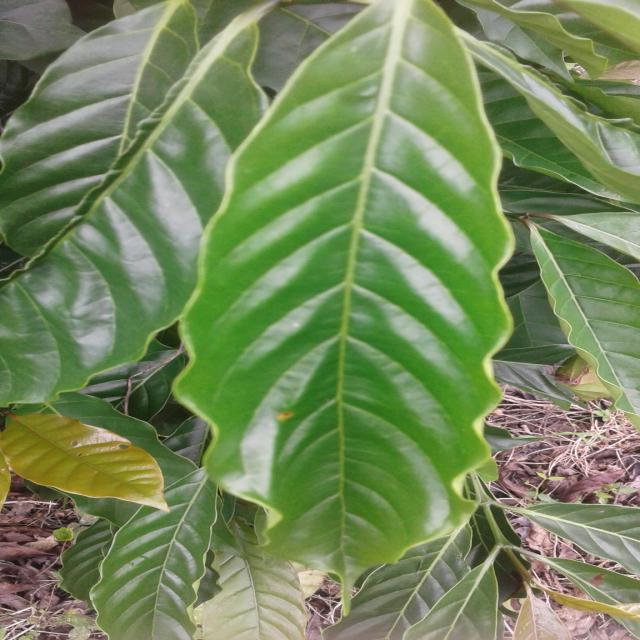Enfermedad-Roya: (166, 0, 514, 576)
